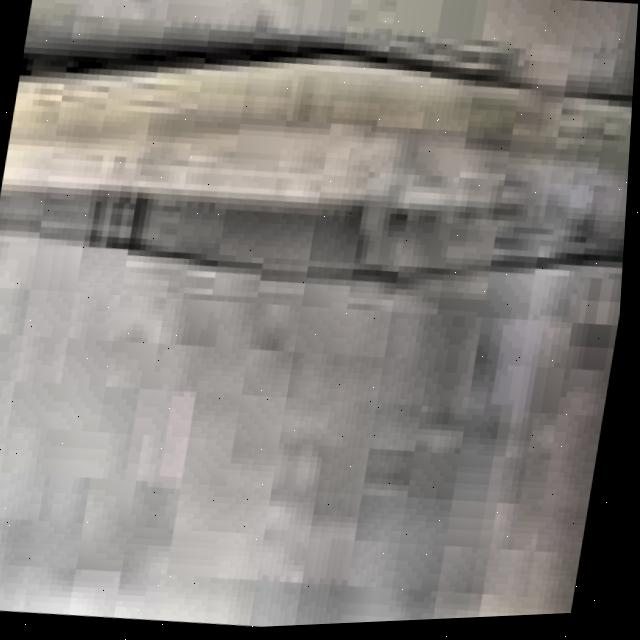paper: (0, 50, 635, 629)
